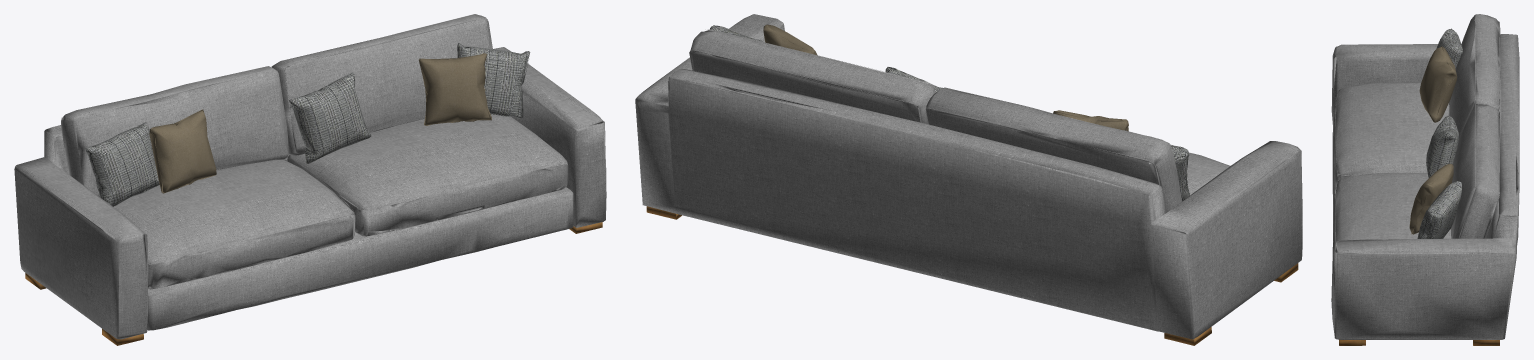
The model's file is sofa-modelo-triplo-padrao.glb.
3 renders of one model, left to right at view 1: azimuth 30°, elevation 25°; view 2: azimuth 150°, elevation 25°; view 3: azimuth 270°, elevation 25°, orthographic. The views are drawn at different scales.
Visible parts, largest first — view 1: Modelo Triplo padrao; view 2: Modelo Triplo padrao; view 3: Modelo Triplo padrao.
Boxes of the visible parts, box(x1,y1,x2,y2) form: Modelo Triplo padrao: box(14, 14, 606, 345); Modelo Triplo padrao: box(635, 14, 1302, 345); Modelo Triplo padrao: box(1331, 14, 1519, 345).
Bounding box in the file's own units: 3.28 × 1.03 × 1.23.
Materials: 5 (5 with a texture image).
